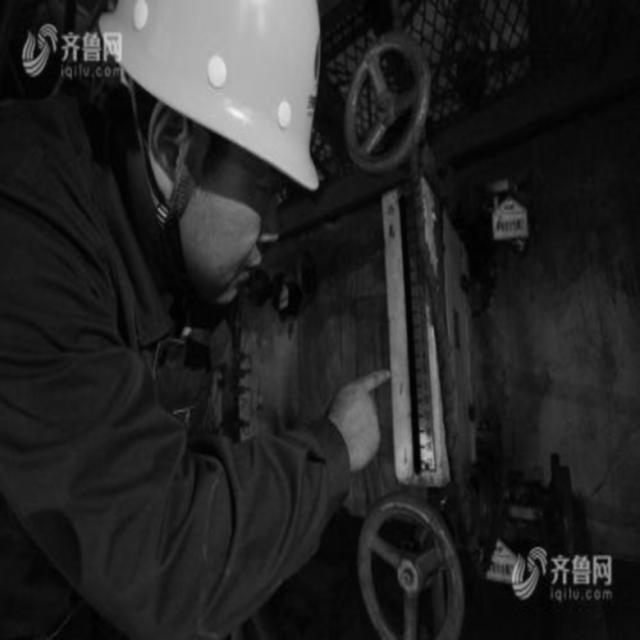head: (98, 0, 336, 347)
